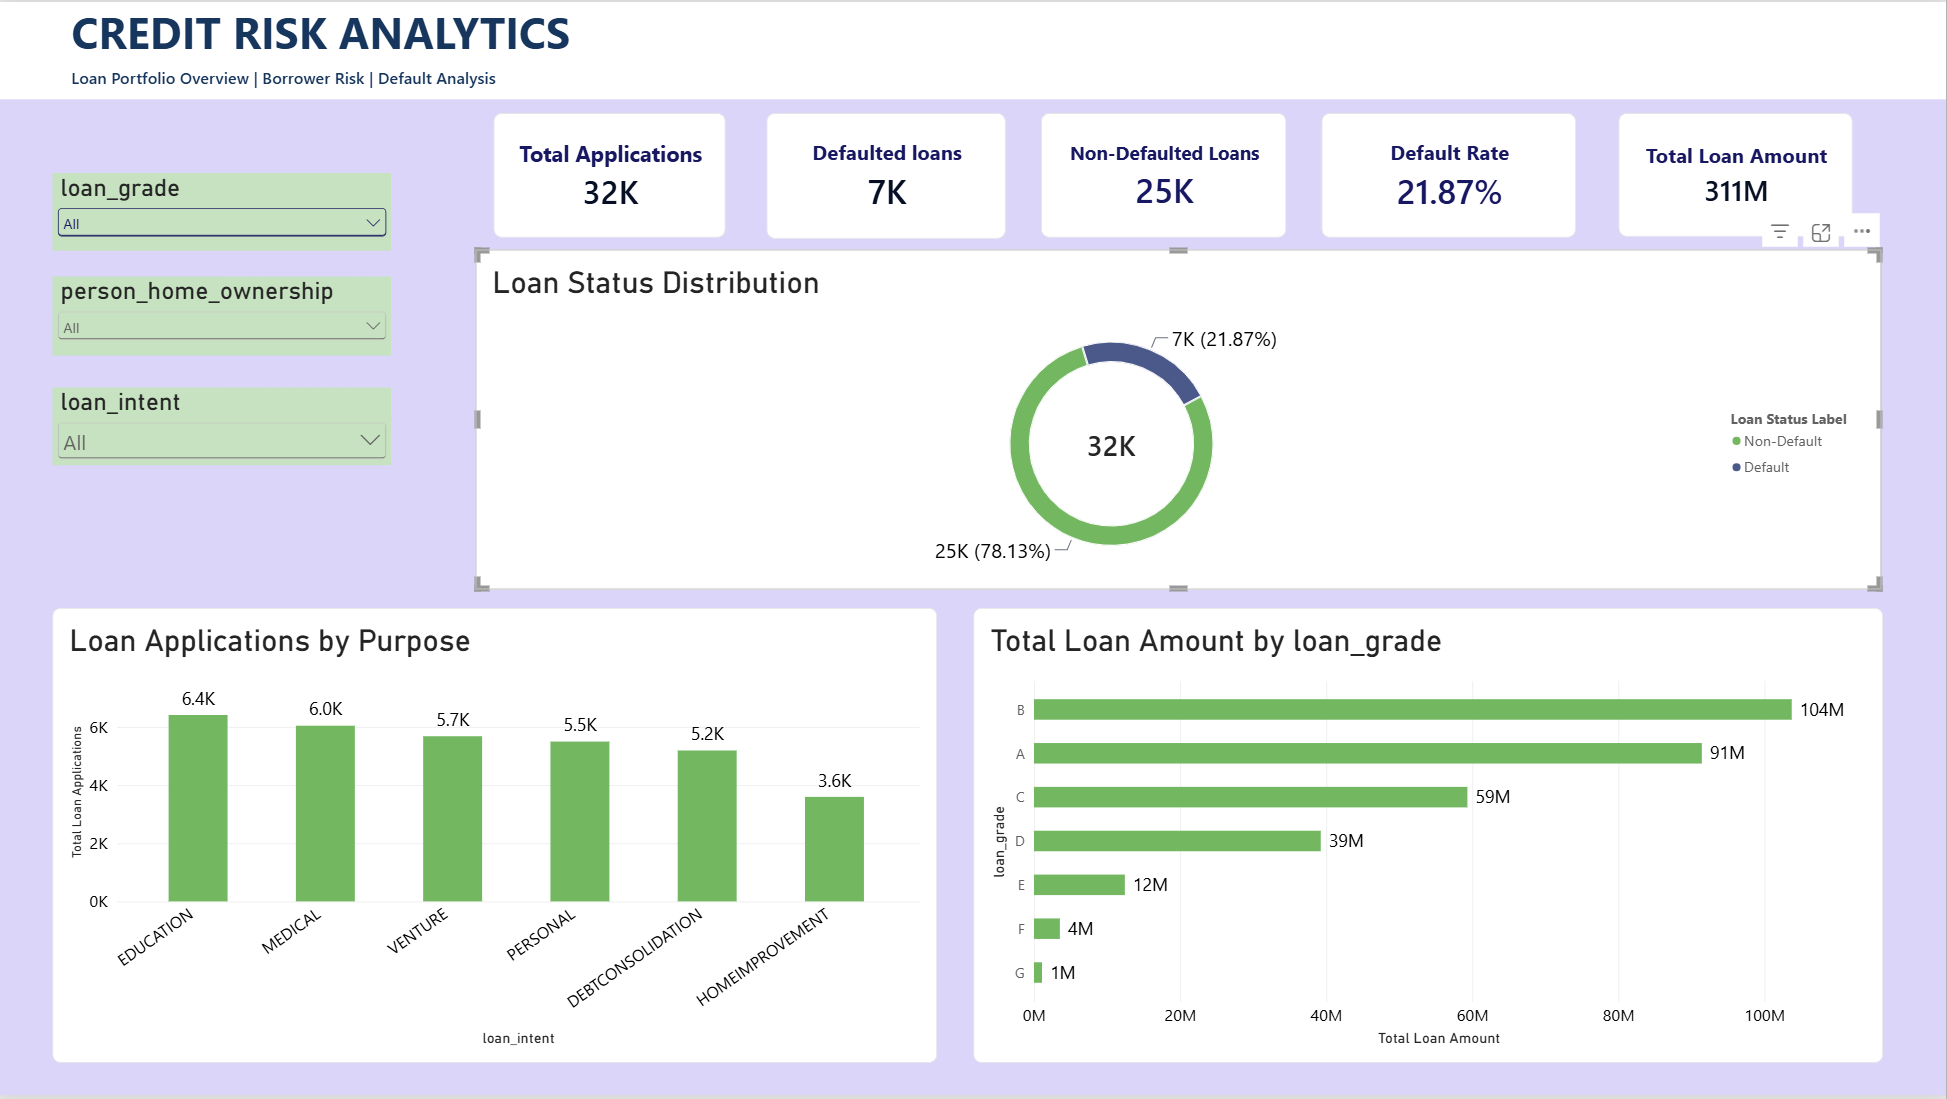

What the dashboard file says about the page in this screenshot:
{"tool":"powerbi","page":{"name":"credit","canvas":[1920,1080],"ordinal":0},"visuals":[{"type":"cardVisual","fields":{"Data":["loan_risk_portfolio credit_risk_dataset.Total Loan Applications"]},"box":[487,108.9,229.4,123.4],"z":0},{"type":"cardVisual","fields":{"Data":["loan_risk_portfolio credit_risk_dataset.Defaulted loans"]},"box":[756.3,108.9,236.8,124.1],"z":1},{"type":"cardVisual","fields":{"Data":["loan_risk_portfolio credit_risk_dataset.Non-Defaulted Loans"]},"box":[1027.5,108.9,242.1,123.4],"z":2},{"type":"cardVisual","fields":{"Data":["loan_risk_portfolio credit_risk_dataset.Default Rate"]},"box":[1304.4,108.9,251.5,123.4],"z":3},{"type":"textbox","box":[0,0,1920,96],"z":5},{"type":"textbox","box":[0,64,1596,32],"z":6},{"type":"donutChart","title":"Loan Status Distribution","fields":{"Category":["loan_risk_portfolio credit_risk_dataset.loan_status"],"Y":["loan_risk_portfolio credit_risk_dataset.Total Loan Applications"]},"box":[469.8,244.5,1386.5,336.1],"z":7},{"type":"clusteredBarChart","title":"Total Loan Amount by loan_grade","fields":{"Category":["loan_risk_portfolio credit_risk_dataset.loan_grade"],"Y":["loan_risk_portfolio credit_risk_dataset.Total Loan Amountt"]},"box":[960.6,597.8,897.6,448.8],"z":8},{"type":"clusteredColumnChart","title":"Loan Applications by Purpose","fields":{"Category":["loan_risk_portfolio credit_risk_dataset.loan_intent"],"Y":["loan_risk_portfolio credit_risk_dataset.Total Loan Applications"]},"box":[51.6,597.8,872.8,448.8],"z":9},{"type":"slicer","fields":{"Values":["loan_risk_portfolio credit_risk_dataset.loan_grade"]},"box":[51.6,168.1,334.2,76.4],"z":10},{"type":"slicer","fields":{"Values":["loan_risk_portfolio credit_risk_dataset.loan_intent"]},"box":[51.6,380.1,334.2,76.4],"z":11},{"type":"slicer","fields":{"Values":["loan_risk_portfolio credit_risk_dataset.person_home_ownership"]},"box":[51.6,271.2,334.2,78.3],"z":12},{"type":"cardVisual","fields":{"Data":["loan_risk_portfolio credit_risk_dataset.Total Loan Amountt"]},"box":[1596.6,108.9,231.1,122.2],"z":13}]}

Visuals, with their boxes in screenshot pixels (x1, y1, x2, y2), scaled from the page's 1920x1080 canvas onto the 1947x1099 screenshot:
cardVisual - loan_risk_portfolio credit_risk_dataset.Total Loan Applications: [494,111,726,236]
cardVisual - loan_risk_portfolio credit_risk_dataset.Defaulted loans: [767,111,1007,237]
cardVisual - loan_risk_portfolio credit_risk_dataset.Non-Defaulted Loans: [1042,111,1287,236]
cardVisual - loan_risk_portfolio credit_risk_dataset.Default Rate: [1323,111,1578,236]
textbox: [0,0,1946,98]
textbox: [0,65,1618,98]
"Loan Status Distribution" donutChart: [476,249,1882,591]
"Total Loan Amount by loan_grade" clusteredBarChart: [974,608,1884,1065]
"Loan Applications by Purpose" clusteredColumnChart: [52,608,937,1065]
slicer - loan_risk_portfolio credit_risk_dataset.loan_grade: [52,171,391,249]
slicer - loan_risk_portfolio credit_risk_dataset.loan_intent: [52,387,391,465]
slicer - loan_risk_portfolio credit_risk_dataset.person_home_ownership: [52,276,391,356]
cardVisual - loan_risk_portfolio credit_risk_dataset.Total Loan Amountt: [1619,111,1853,235]
